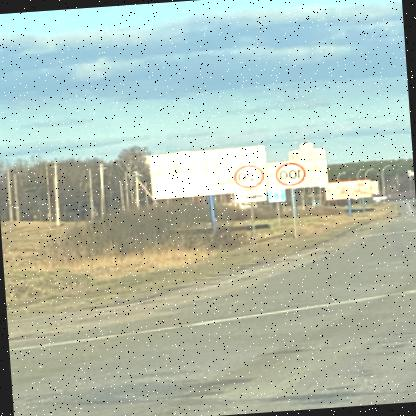speedlimit: (276, 158, 310, 186), (235, 162, 269, 188)
